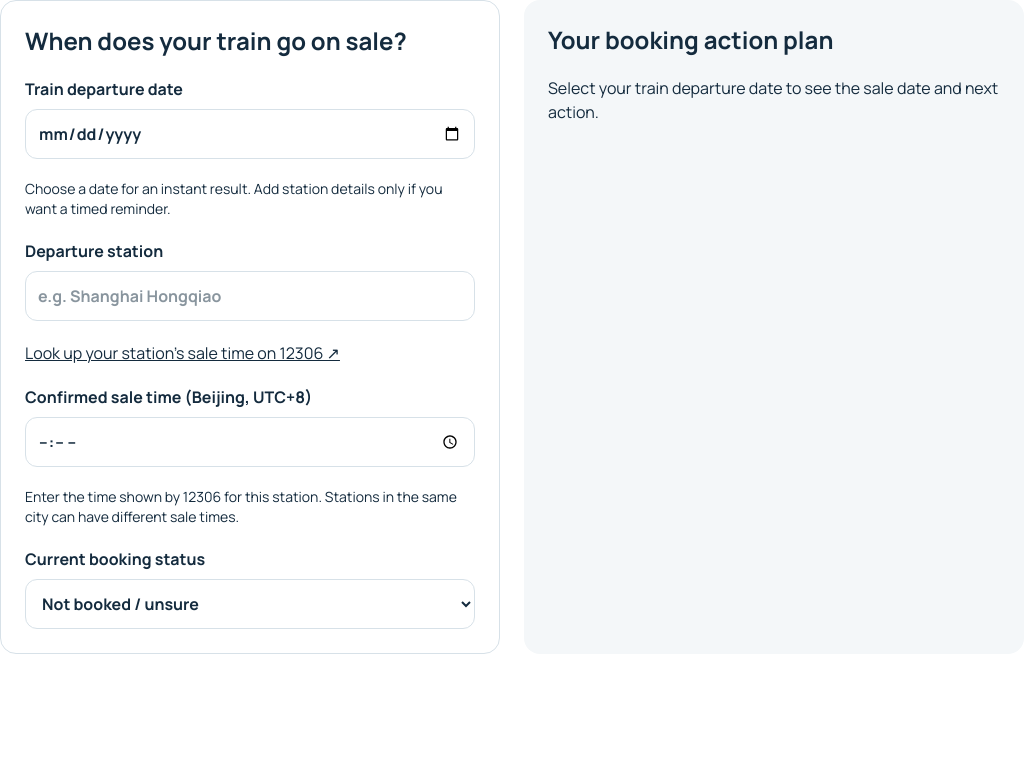
Test case: shows results without submission and clears a stale station time
Type "2026-10-01" into the date field labelled "Train departure date".
click(250, 134); type("2026-10-01")  # box [25, 109, 475, 159]
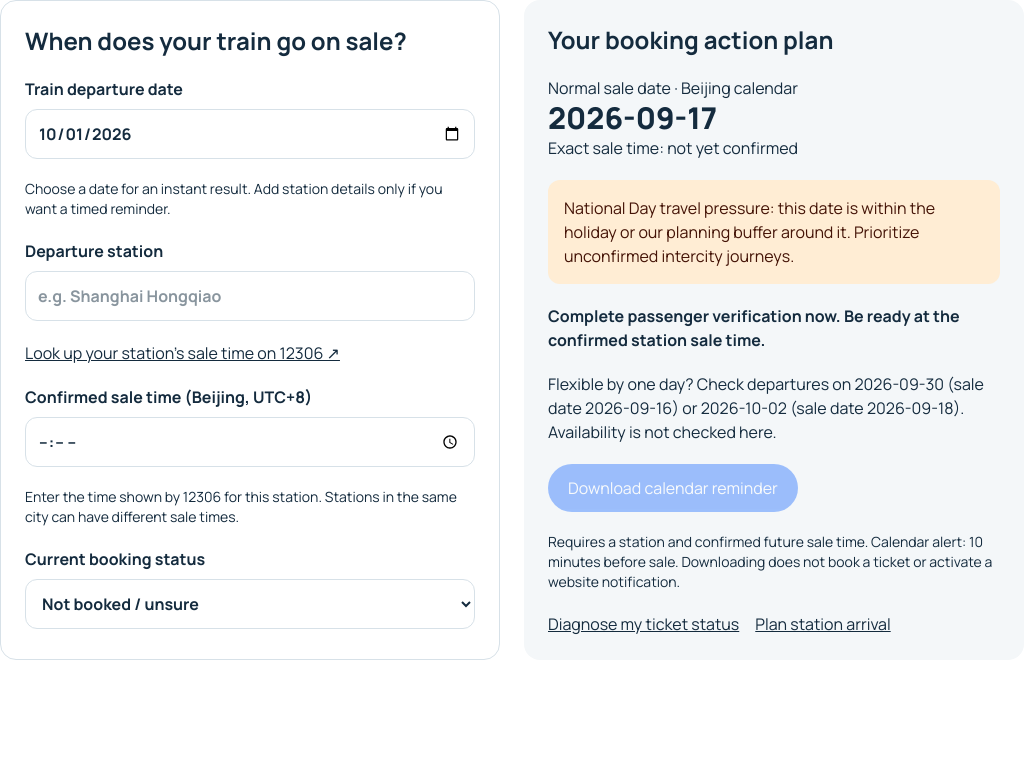
Expected: the text "2026-09-17" is shown, [548, 97, 717, 138]
Expected: the button "Download calendar reminder" is disabled, [548, 464, 798, 512]
Type "Shanghai Hongqiao" into the field labelled "Departure station".
click(250, 296); type("Shanghai Hongqiao")  # box [25, 271, 475, 321]
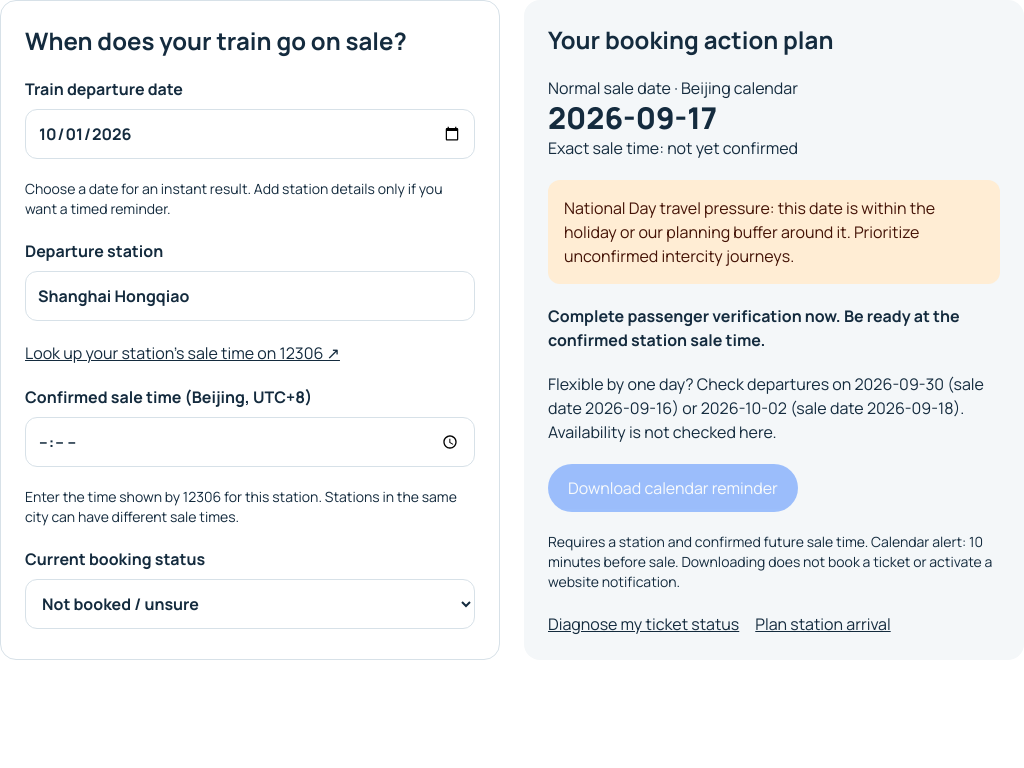
Type "08:00" into the time field labelled "Confirmed sale time (Beijing, UTC+8)".
click(250, 442); type("08:00")  # box [25, 417, 475, 467]
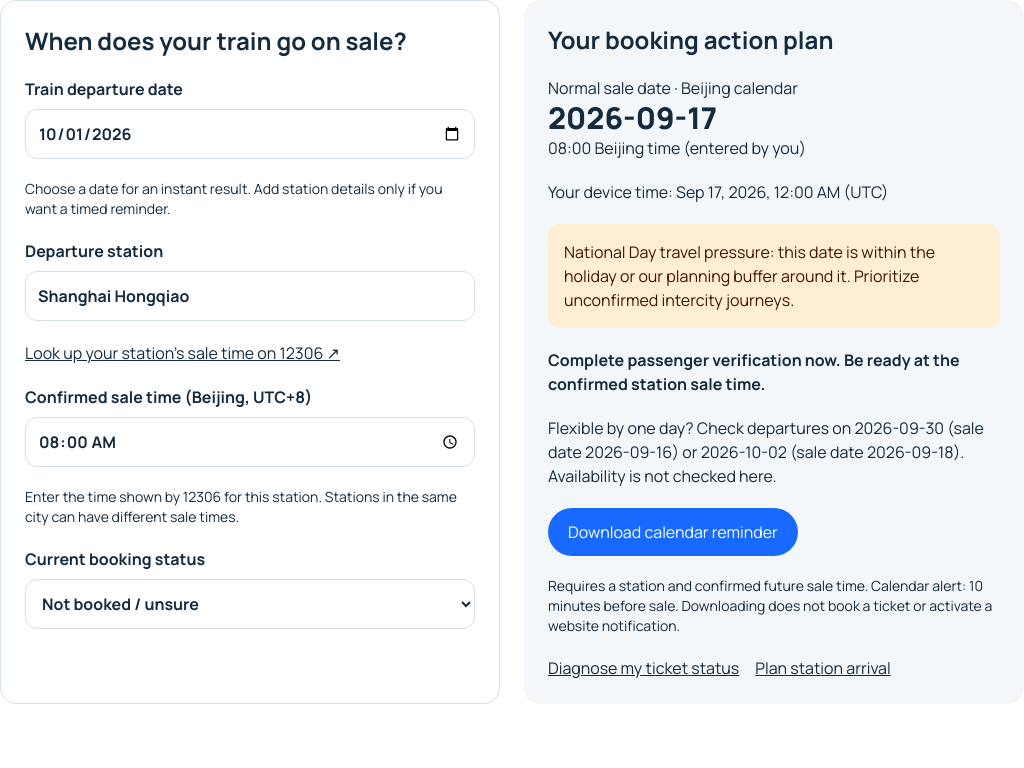
Expected: the button "Download calendar reminder" is enabled, [548, 508, 798, 556]
Replace the text in the field labelled "Departure station" with "Beijing South" at (250, 296), box [25, 271, 475, 321]
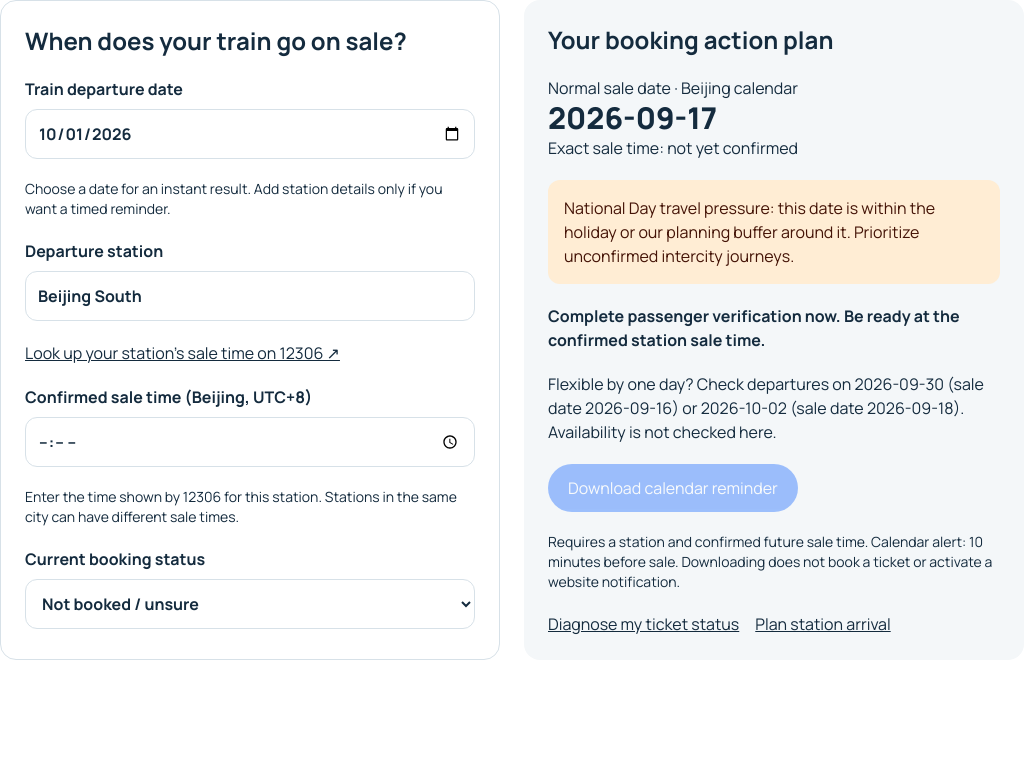
Expected: the button "Download calendar reminder" is disabled, [548, 464, 798, 512]
Select "Reserved / requested / processing" in the dropdown labelled "Current booking status" at (250, 604), box [25, 579, 475, 629]
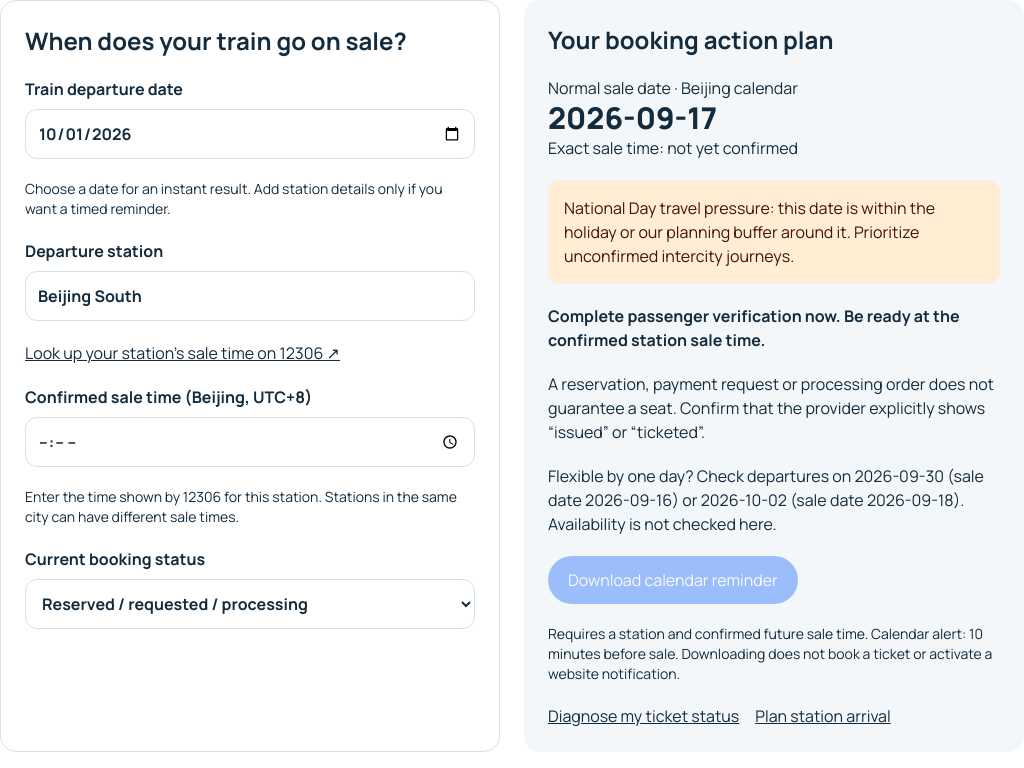
Expected: the text "does not guarantee a seat" is shown, [548, 373, 994, 443]
